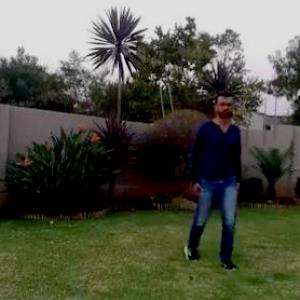follow: (198, 91, 242, 245)
